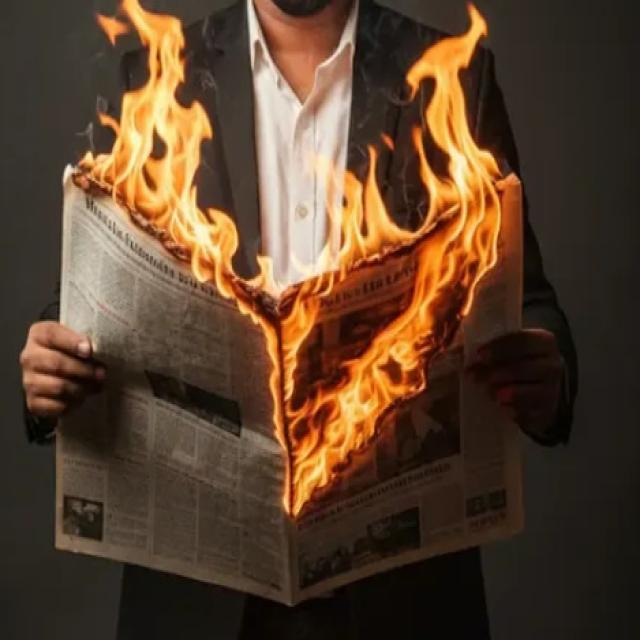fire: (219, 135, 424, 529), (73, 0, 238, 284), (407, 1, 501, 370)
